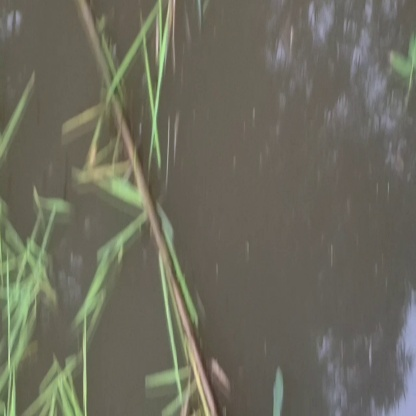branch: (83, 12, 233, 405)
